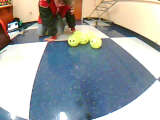Ball: (88, 37, 103, 49), (67, 33, 80, 46), (77, 30, 88, 44)
